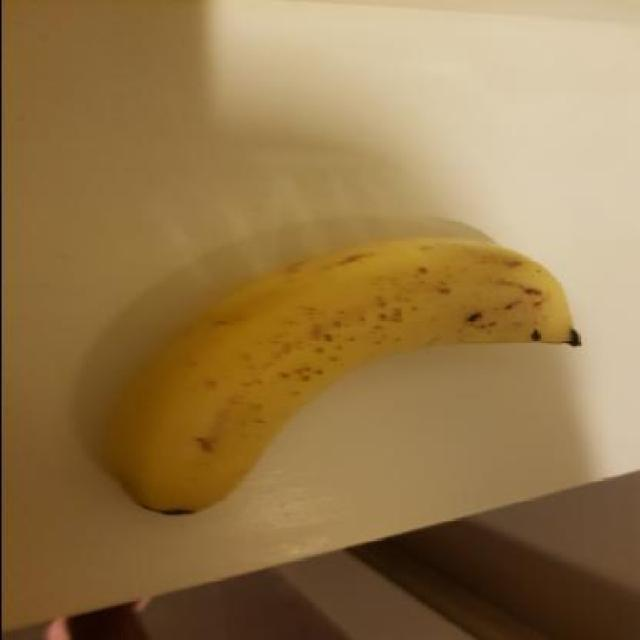Banana: (98, 234, 590, 520)
